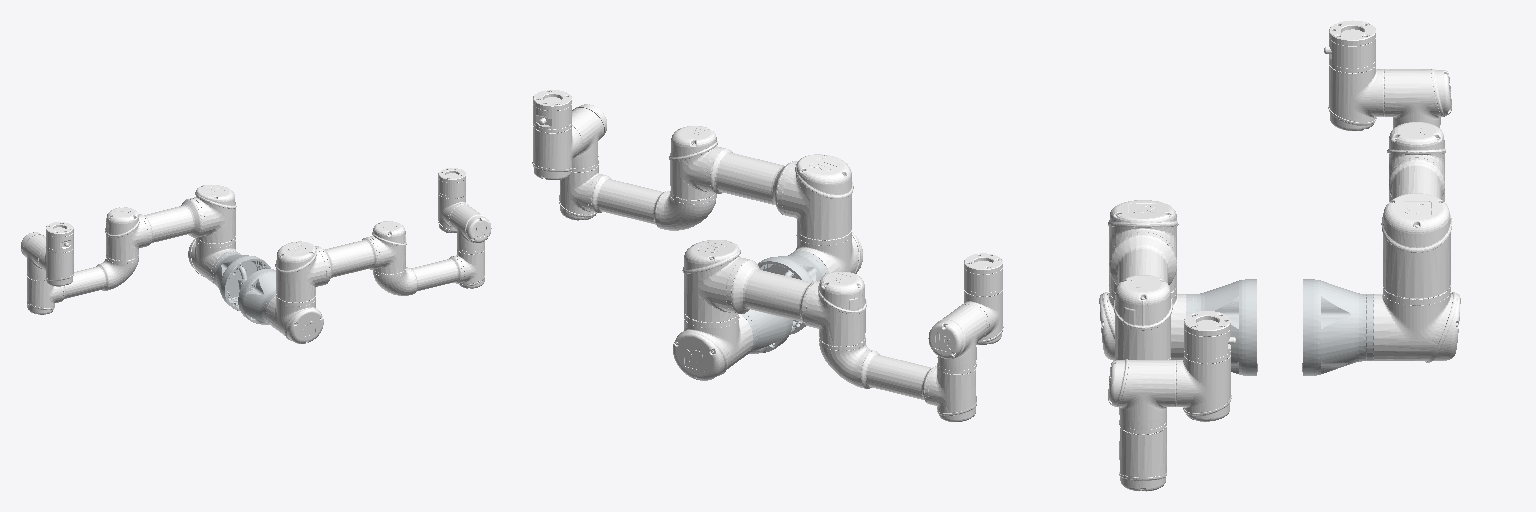
The robot description file, URDF, robot "urcar_description":
<?xml version="1.0" encoding="utf-8"?>
<!-- This URDF was automatically created by SolidWorks to URDF Exporter! Originally created by [author] ([email redacted]) 
     Commit Version: 1.6.0-1-g15f4949  Build Version: 1.6.7594.29634
     For more information, please see http://wiki.ros.org/sw_urdf_exporter -->
<robot
  name="urcar_description">
  <link
    name="base_link">
    <inertial>
      <origin
        xyz="-0.293181220823497 0.0228138862846241 0.213786065129617"
        rpy="0 0 0" />
      <mass
        value="32.9716985364073" />
      <inertia
        ixx="0.747497678624552"
        ixy="-0.000136958330347952"
        ixz="-0.00109805134374165"
        iyy="0.626023554578189"
        iyz="3.13336589739395E-05"
        izz="0.227809268803597" />
    </inertial>
    <visual>
      <origin
        xyz="0 0 0"
        rpy="0 0 0" />
      <geometry>
        <mesh
          filename="package://urcar_description/meshes/base_link.STL" />
      </geometry>
      <material
        name="">
        <color
          rgba="0.741176470588235 0.901960784313726 0.956862745098039 1" />
      </material>
    </visual>
    <collision>
      <origin
        xyz="0 0 0"
        rpy="0 0 0" />
      <geometry>
        <mesh
          filename="package://urcar_description/meshes/base_link.STL" />
      </geometry>
    </collision>
  </link>
  <link
    name="right_ur_base_link">
    <inertial>
      <origin
        xyz="-1.70585556634184E-05 0.000598349980073076 0.0583820161201244"
        rpy="0 0 0" />
      <mass
        value="1.11048857887095" />
      <inertia
        ixx="0.00156521304328468"
        ixy="2.09349645709121E-07"
        ixz="-1.23145085442165E-06"
        iyy="0.00158402822015484"
        iyz="1.40529519995404E-05"
        izz="0.0017882187974853" />
    </inertial>
    <visual>
      <origin
        xyz="0 0 0"
        rpy="0 0 0" />
      <geometry>
        <mesh
          filename="package://urcar_description/meshes/right_ur_base_link.STL" />
      </geometry>
      <material
        name="">
        <color
          rgba="0.898039215686275 0.917647058823529 0.929411764705882 1" />
      </material>
    </visual>
    <collision>
      <origin
        xyz="0 0 0"
        rpy="0 0 0" />
      <geometry>
        <mesh
          filename="package://urcar_description/meshes/right_ur_base_link.STL" />
      </geometry>
    </collision>
  </link>
  <joint
    name="right_ur_base"
    type="fixed">
    <origin
      xyz="-0.0900695574684298 -0.0295000000000024 0.127505494505501"
      rpy="-1.5707963267949 0 3.14159265358979" />
    <parent
      link="base_link" />
    <child
      link="right_ur_base_link" />
    <axis
      xyz="0 0 0" />
  </joint>
  <link
    name="right_ur_shoulder_link">
    <inertial>
      <origin
        xyz="-2.75438503311021E-07 -0.0095503335634608 -0.00134313880089604"
        rpy="0 0 0" />
      <mass
        value="0.86048677353649" />
      <inertia
        ixx="0.00145975698843663"
        ixy="1.00076031707848E-08"
        ixz="1.13510071513689E-08"
        iyy="0.00124606811007042"
        iyz="3.34902185535162E-05"
        izz="0.0011307880280091" />
    </inertial>
    <visual>
      <origin
        xyz="0 0 0"
        rpy="0 0 0" />
      <geometry>
        <mesh
          filename="package://urcar_description/meshes/right_ur_shoulder_link.STL" />
      </geometry>
      <material
        name="">
        <color
          rgba="1 1 1 1" />
      </material>
    </visual>
    <collision>
      <origin
        xyz="0 0 0"
        rpy="0 0 0" />
      <geometry>
        <mesh
          filename="package://urcar_description/meshes/right_ur_shoulder_link.STL" />
      </geometry>
    </collision>
  </link>
  <joint
    name="right_ur_shoulder_pan_joint"
    type="revolute">
    <origin
      xyz="0 0 0.15185"
      rpy="0 0 0" />
    <parent
      link="right_ur_base_link" />
    <child
      link="right_ur_shoulder_link" />
    <axis
      xyz="0 0 1" />
    <limit
      lower="-3.14"
      upper="3.14"
      effort="0"
      velocity="0" />
  </joint>
  <link
    name="right_ur_upper_arm_link">
    <inertial>
      <origin
        xyz="-0.103646398649669 1.59543779154614E-06 0.120186719515414"
        rpy="0 0 0" />
      <mass
        value="1.86255115311105" />
      <inertia
        ixx="0.00213324581133399"
        ixy="8.33210613154706E-07"
        ixz="0.00038601878673668"
        iyy="0.0202440252631196"
        iyz="-1.82478927308902E-07"
        izz="0.0196974069542396" />
    </inertial>
    <visual>
      <origin
        xyz="0 0 0"
        rpy="0 0 0" />
      <geometry>
        <mesh
          filename="package://urcar_description/meshes/right_ur_upper_arm_link.STL" />
      </geometry>
      <material
        name="">
        <color
          rgba="1 1 1 1" />
      </material>
    </visual>
    <collision>
      <origin
        xyz="0 0 0"
        rpy="0 0 0" />
      <geometry>
        <mesh
          filename="package://urcar_description/meshes/right_ur_upper_arm_link.STL" />
      </geometry>
    </collision>
  </link>
  <joint
    name="right_ur_shoulder_lift_joint"
    type="revolute">
    <origin
      xyz="0 0 0"
      rpy="1.5708 0 0" />
    <parent
      link="right_ur_shoulder_link" />
    <child
      link="right_ur_upper_arm_link" />
    <axis
      xyz="0 0 1" />
    <limit
      lower="-3.14"
      upper="3.14"
      effort="0"
      velocity="0" />
  </joint>
  <link
    name="right_ur_forearm_link">
    <inertial>
      <origin
        xyz="-0.113365957442825 3.44573695298944E-07 0.00470876633326606"
        rpy="0 0 0" />
      <mass
        value="0.888801909346324" />
      <inertia
        ixx="0.000601695226725028"
        ixy="2.34953077021263E-08"
        ixz="-0.00047433984876308"
        iyy="0.00677879949972356"
        iyz="2.32200841032818E-09"
        izz="0.00662395723523755" />
    </inertial>
    <visual>
      <origin
        xyz="0 0 0"
        rpy="0 0 0" />
      <geometry>
        <mesh
          filename="package://urcar_description/meshes/right_ur_forearm_link.STL" />
      </geometry>
      <material
        name="">
        <color
          rgba="1 1 1 1" />
      </material>
    </visual>
    <collision>
      <origin
        xyz="0 0 0"
        rpy="0 0 0" />
      <geometry>
        <mesh
          filename="package://urcar_description/meshes/right_ur_forearm_link.STL" />
      </geometry>
    </collision>
  </link>
  <joint
    name="right_ur_elbow_joint"
    type="revolute">
    <origin
      xyz="-0.24355 0 0.027"
      rpy="0 0 0" />
    <parent
      link="right_ur_upper_arm_link" />
    <child
      link="right_ur_forearm_link" />
    <axis
      xyz="0 0 1" />
    <limit
      lower="-3.14"
      upper="3.14"
      effort="0"
      velocity="0" />
  </joint>
  <link
    name="right_ur_wrist_1_link">
    <inertial>
      <origin
        xyz="1.51425311289977E-07 -3.97067190331946E-05 -0.0124956497436929"
        rpy="0 0 0" />
      <mass
        value="0.375036968075586" />
      <inertia
        ixx="0.000411752859619136"
        ixy="1.48665201195272E-09"
        ixz="-5.48241411917674E-09"
        iyy="0.000316313144134685"
        iyz="2.384364866386E-06"
        izz="0.000288187892179436" />
    </inertial>
    <visual>
      <origin
        xyz="0 0 0"
        rpy="0 0 0" />
      <geometry>
        <mesh
          filename="package://urcar_description/meshes/right_ur_wrist_1_link.STL" />
      </geometry>
      <material
        name="">
        <color
          rgba="1 1 1 1" />
      </material>
    </visual>
    <collision>
      <origin
        xyz="0 0 0"
        rpy="0 0 0" />
      <geometry>
        <mesh
          filename="package://urcar_description/meshes/right_ur_wrist_1_link.STL" />
      </geometry>
    </collision>
  </link>
  <joint
    name="right_ur_wrist_1_joint"
    type="revolute">
    <origin
      xyz="-0.2132 0 0.10405"
      rpy="0 0 0" />
    <parent
      link="right_ur_forearm_link" />
    <child
      link="right_ur_wrist_1_link" />
    <axis
      xyz="0 0 1" />
    <limit
      lower="-3.14"
      upper="3.14"
      effort="0"
      velocity="0" />
  </joint>
  <link
    name="right_ur_wrist_2_link">
    <inertial>
      <origin
        xyz="4.59401394703463E-08 3.09304237351427E-05 -0.00528976846149043"
        rpy="0 0 0" />
      <mass
        value="0.316863918999266" />
      <inertia
        ixx="0.000290365349607398"
        ixy="6.89739045564851E-11"
        ixz="5.13087527877654E-09"
        iyy="0.000194794626867655"
        iyz="-2.33431027426877E-06"
        izz="0.000259464598147467" />
    </inertial>
    <visual>
      <origin
        xyz="0 0 0"
        rpy="0 0 0" />
      <geometry>
        <mesh
          filename="package://urcar_description/meshes/right_ur_wrist_2_link.STL" />
      </geometry>
      <material
        name="">
        <color
          rgba="1 1 1 1" />
      </material>
    </visual>
    <collision>
      <origin
        xyz="0 0 0"
        rpy="0 0 0" />
      <geometry>
        <mesh
          filename="package://urcar_description/meshes/right_ur_wrist_2_link.STL" />
      </geometry>
    </collision>
  </link>
  <joint
    name="right_ur_wrist_2_joint"
    type="revolute">
    <origin
      xyz="0 -0.08535 0"
      rpy="1.5708 0 0" />
    <parent
      link="right_ur_wrist_1_link" />
    <child
      link="right_ur_wrist_2_link" />
    <axis
      xyz="0 0 1" />
    <limit
      lower="-3.14"
      upper="3.14"
      effort="0"
      velocity="0" />
  </joint>
  <link
    name="right_ur_wrist_3_link">
    <inertial>
      <origin
        xyz="-2.16463893476515E-08 0.000153725135783267 -0.0253521485792833"
        rpy="0 0 0" />
      <mass
        value="0.145961783256663" />
      <inertia
        ixx="6.30289584549884E-05"
        ixy="-2.27263392701082E-10"
        ixz="-1.04791051790363E-10"
        iyy="6.35887495748845E-05"
        iyz="-3.62022482896663E-08"
        izz="7.28000634102573E-05" />
    </inertial>
    <visual>
      <origin
        xyz="0 0 0"
        rpy="0 0 0" />
      <geometry>
        <mesh
          filename="package://urcar_description/meshes/right_ur_wrist_3_link.STL" />
      </geometry>
      <material
        name="">
        <color
          rgba="1 1 1 1" />
      </material>
    </visual>
    <collision>
      <origin
        xyz="0 0 0"
        rpy="0 0 0" />
      <geometry>
        <mesh
          filename="package://urcar_description/meshes/right_ur_wrist_3_link.STL" />
      </geometry>
    </collision>
  </link>
  <joint
    name="right_ur_wrist_3_joint"
    type="revolute">
    <origin
      xyz="0 0.0921 0"
      rpy="-1.5708 0 0" />
    <parent
      link="right_ur_wrist_2_link" />
    <child
      link="right_ur_wrist_3_link" />
    <axis
      xyz="0 0 1" />
    <limit
      lower="-3.14"
      upper="3.14"
      effort="0"
      velocity="0" />
  </joint>
  <link
    name="left_ur_base_link">
    <inertial>
      <origin
        xyz="-1.70585560592962E-05 0.000598349978268964 0.0583820161197486"
        rpy="0 0 0" />
      <mass
        value="1.11048857899584" />
      <inertia
        ixx="0.00156521304331817"
        ixy="2.09349636447583E-07"
        ixz="-1.23145085784408E-06"
        iyy="0.00158402822015454"
        iyz="1.40529519917085E-05"
        izz="0.00178821879751267" />
    </inertial>
    <visual>
      <origin
        xyz="0 0 0"
        rpy="0 0 0" />
      <geometry>
        <mesh
          filename="package://urcar_description/meshes/left_ur_base_link.STL" />
      </geometry>
      <material
        name="">
        <color
          rgba="0.898039215686275 0.917647058823529 0.929411764705882 1" />
      </material>
    </visual>
    <collision>
      <origin
        xyz="0 0 0"
        rpy="0 0 0" />
      <geometry>
        <mesh
          filename="package://urcar_description/meshes/left_ur_base_link.STL" />
      </geometry>
    </collision>
  </link>
  <joint
    name="left_ur_base"
    type="fixed">
    <origin
      xyz="-0.09007 0.0305 0.12751"
      rpy="-1.5708 0 0" />
    <parent
      link="base_link" />
    <child
      link="left_ur_base_link" />
    <axis
      xyz="0 0 0" />
  </joint>
  <link
    name="left_ur_shoulder_link">
    <inertial>
      <origin
        xyz="-9.67599977086397E-08 -0.00955031302882908 -0.00134307624352892"
        rpy="0 0 0" />
      <mass
        value="0.860481773538634" />
      <inertia
        ixx="0.00145975703636161"
        ixy="1.00342656563931E-08"
        ixz="1.13363669644073E-08"
        iyy="0.00124606797307752"
        iyz="3.34902394955827E-05"
        izz="0.00113078792734696" />
    </inertial>
    <visual>
      <origin
        xyz="0 0 0"
        rpy="0 0 0" />
      <geometry>
        <mesh
          filename="package://urcar_description/meshes/left_ur_shoulder_link.STL" />
      </geometry>
      <material
        name="">
        <color
          rgba="1 1 1 1" />
      </material>
    </visual>
    <collision>
      <origin
        xyz="0 0 0"
        rpy="0 0 0" />
      <geometry>
        <mesh
          filename="package://urcar_description/meshes/left_ur_shoulder_link.STL" />
      </geometry>
    </collision>
  </link>
  <joint
    name="left_ur_shoulder_pan_joint"
    type="revolute">
    <origin
      xyz="0 0 0.15185"
      rpy="0 0 0" />
    <parent
      link="left_ur_base_link" />
    <child
      link="left_ur_shoulder_link" />
    <axis
      xyz="0 0 1" />
    <limit
      lower="-3.14"
      upper="3.14"
      effort="0"
      velocity="0" />
  </joint>
  <link
    name="left_ur_upper_arm_link">
    <inertial>
      <origin
        xyz="-0.103646361909403 1.57794692867697E-06 0.120186715762299"
        rpy="0 0 0" />
      <mass
        value="1.86255217904093" />
      <inertia
        ixx="0.00213324549329523"
        ixy="8.3296461192486E-07"
        ixz="0.000386018430757662"
        iyy="0.0202440239369208"
        iyz="-1.82464647232383E-07"
        izz="0.019697405360556" />
    </inertial>
    <visual>
      <origin
        xyz="0 0 0"
        rpy="0 0 0" />
      <geometry>
        <mesh
          filename="package://urcar_description/meshes/left_ur_upper_arm_link.STL" />
      </geometry>
      <material
        name="">
        <color
          rgba="1 1 1 1" />
      </material>
    </visual>
    <collision>
      <origin
        xyz="0 0 0"
        rpy="0 0 0" />
      <geometry>
        <mesh
          filename="package://urcar_description/meshes/left_ur_upper_arm_link.STL" />
      </geometry>
    </collision>
  </link>
  <joint
    name="left_ur_shoulder_lift_joint"
    type="revolute">
    <origin
      xyz="0 0 0"
      rpy="1.5708 0 0" />
    <parent
      link="left_ur_shoulder_link" />
    <child
      link="left_ur_upper_arm_link" />
    <axis
      xyz="0 0 1" />
    <limit
      lower="-3.14"
      upper="3.14"
      effort="0"
      velocity="0" />
  </joint>
  <link
    name="left_ur_forearm_link">
    <inertial>
      <origin
        xyz="-0.113365959382854 3.44232148341561E-07 0.0047087655741031"
        rpy="0 0 0" />
      <mass
        value="0.888801942898712" />
      <inertia
        ixx="0.000601695179250581"
        ixy="2.34046232809796E-08"
        ixz="-0.00047433985025688"
        iyy="0.00677879951041521"
        iyz="2.29736419364682E-09"
        izz="0.0066239572943536" />
    </inertial>
    <visual>
      <origin
        xyz="0 0 0"
        rpy="0 0 0" />
      <geometry>
        <mesh
          filename="package://urcar_description/meshes/left_ur_forearm_link.STL" />
      </geometry>
      <material
        name="">
        <color
          rgba="1 1 1 1" />
      </material>
    </visual>
    <collision>
      <origin
        xyz="0 0 0"
        rpy="0 0 0" />
      <geometry>
        <mesh
          filename="package://urcar_description/meshes/left_ur_forearm_link.STL" />
      </geometry>
    </collision>
  </link>
  <joint
    name="left_ur_elbow_joint"
    type="revolute">
    <origin
      xyz="-0.24355 0 0.027"
      rpy="0 0 0" />
    <parent
      link="left_ur_upper_arm_link" />
    <child
      link="left_ur_forearm_link" />
    <axis
      xyz="0 0 1" />
    <limit
      lower="-3.14"
      upper="3.14"
      effort="0"
      velocity="0" />
  </joint>
  <link
    name="left_ur_wrist_1_link">
    <inertial>
      <origin
        xyz="1.51219308242023E-07 -3.97060497587809E-05 -0.012495648667315"
        rpy="0 0 0" />
      <mass
        value="0.375036952925017" />
      <inertia
        ixx="0.000411752842139784"
        ixy="1.48469142584213E-09"
        ixz="-5.48361636303738E-09"
        iyy="0.000316313128446611"
        iyz="2.38437183463293E-06"
        izz="0.000288187883829113" />
    </inertial>
    <visual>
      <origin
        xyz="0 0 0"
        rpy="0 0 0" />
      <geometry>
        <mesh
          filename="package://urcar_description/meshes/left_ur_wrist_1_link.STL" />
      </geometry>
      <material
        name="">
        <color
          rgba="1 1 1 1" />
      </material>
    </visual>
    <collision>
      <origin
        xyz="0 0 0"
        rpy="0 0 0" />
      <geometry>
        <mesh
          filename="package://urcar_description/meshes/left_ur_wrist_1_link.STL" />
      </geometry>
    </collision>
  </link>
  <joint
    name="left_ur_wrist_1_joint"
    type="revolute">
    <origin
      xyz="-0.2132 0 0.10405"
      rpy="0 0 0" />
    <parent
      link="left_ur_forearm_link" />
    <child
      link="left_ur_wrist_1_link" />
    <axis
      xyz="0 0 1" />
    <limit
      lower="-3.14"
      upper="3.14"
      effort="0"
      velocity="0" />
  </joint>
  <link
    name="left_ur_wrist_2_link">
    <inertial>
      <origin
        xyz="6.10124055167027E-08 3.09384468485385E-05 -0.0052897738204587"
        rpy="0 0 0" />
      <mass
        value="0.316864132517896" />
      <inertia
        ixx="0.000290365363147334"
        ixy="1.42976604993195E-10"
        ixz="5.17000987218734E-09"
        iyy="0.00019479476406711"
        iyz="-2.33427646368357E-06"
        izz="0.000259464723052012" />
    </inertial>
    <visual>
      <origin
        xyz="0 0 0"
        rpy="0 0 0" />
      <geometry>
        <mesh
          filename="package://urcar_description/meshes/left_ur_wrist_2_link.STL" />
      </geometry>
      <material
        name="">
        <color
          rgba="1 1 1 1" />
      </material>
    </visual>
    <collision>
      <origin
        xyz="0 0 0"
        rpy="0 0 0" />
      <geometry>
        <mesh
          filename="package://urcar_description/meshes/left_ur_wrist_2_link.STL" />
      </geometry>
    </collision>
  </link>
  <joint
    name="left_ur_wrist_2_joint"
    type="revolute">
    <origin
      xyz="0 -0.08535 0"
      rpy="1.5708 0 0" />
    <parent
      link="left_ur_wrist_1_link" />
    <child
      link="left_ur_wrist_2_link" />
    <axis
      xyz="0 0 1" />
    <limit
      lower="-3.14"
      upper="3.14"
      effort="0"
      velocity="0" />
  </joint>
  <link
    name="left_ur_wrist_3_link">
    <inertial>
      <origin
        xyz="-2.16463894031627E-08 0.000153725135783267 -0.0253521485792833"
        rpy="0 0 0" />
      <mass
        value="0.145961783256662" />
      <inertia
        ixx="6.30289584549874E-05"
        ixy="-2.27263392707742E-10"
        ixz="-1.04791051677919E-10"
        iyy="6.35887495748838E-05"
        iyz="-3.62022482900433E-08"
        izz="7.28000634102562E-05" />
    </inertial>
    <visual>
      <origin
        xyz="0 0 0"
        rpy="0 0 0" />
      <geometry>
        <mesh
          filename="package://urcar_description/meshes/left_ur_wrist_3_link.STL" />
      </geometry>
      <material
        name="">
        <color
          rgba="1 1 1 1" />
      </material>
    </visual>
    <collision>
      <origin
        xyz="0 0 0"
        rpy="0 0 0" />
      <geometry>
        <mesh
          filename="package://urcar_description/meshes/left_ur_wrist_3_link.STL" />
      </geometry>
    </collision>
  </link>
  <joint
    name="left_ur_wrist_3_joint"
    type="revolute">
    <origin
      xyz="0 0.0921 0"
      rpy="-1.5708 0 0" />
    <parent
      link="left_ur_wrist_2_link" />
    <child
      link="left_ur_wrist_3_link" />
    <axis
      xyz="0 0 1" />
    <limit
      lower="-3.14"
      upper="3.14"
      effort="0"
      velocity="0" />
  </joint>
</robot>

--- What the picture shows (computed from the rendered views, not written in the file) ---
The picture shows the robot from 3 angles, left to right: view 1: azimuth 30°, elevation 25°; view 2: azimuth 150°, elevation 25°; view 3: azimuth 270°, elevation 25°; orthographic projection.
Model urcar_description with 15 links and 14 joints (12 revolute, 2 fixed), rooted at base_link, posed all joints at 0.
Visible links, largest first — view 1: right_ur_upper_arm_link, left_ur_upper_arm_link, right_ur_forearm_link, left_ur_forearm_link, right_ur_shoulder_link, left_ur_base_link, right_ur_base_link, right_ur_wrist_1_link, left_ur_shoulder_link, left_ur_wrist_2_link, left_ur_wrist_1_link, right_ur_wrist_3_link (+2 smaller); view 2: right_ur_upper_arm_link, left_ur_upper_arm_link, left_ur_forearm_link, right_ur_forearm_link, left_ur_shoulder_link, left_ur_wrist_1_link, right_ur_wrist_2_link, right_ur_shoulder_link, right_ur_wrist_1_link, left_ur_wrist_3_link, right_ur_wrist_3_link, right_ur_base_link (+2 smaller); view 3: left_ur_upper_arm_link, right_ur_upper_arm_link, left_ur_base_link, left_ur_shoulder_link, right_ur_wrist_1_link, left_ur_wrist_1_link, right_ur_base_link, left_ur_wrist_2_link, right_ur_wrist_2_link, right_ur_forearm_link, right_ur_wrist_3_link, left_ur_wrist_3_link (+1 smaller).
Link boxes in pixels (left/top/right/bottom): right_ur_upper_arm_link: left=275, top=221, right=406, bottom=302; left_ur_upper_arm_link: left=105, top=185, right=236, bottom=260; right_ur_forearm_link: left=373, top=250, right=484, bottom=295; left_ur_forearm_link: left=27, top=256, right=138, bottom=314; right_ur_shoulder_link: left=266, top=295, right=323, bottom=343; left_ur_base_link: left=211, top=251, right=270, bottom=310; right_ur_base_link: left=238, top=269, right=275, bottom=324; right_ur_wrist_1_link: left=450, top=204, right=491, bottom=254; left_ur_shoulder_link: left=188, top=236, right=236, bottom=283; left_ur_wrist_2_link: left=38, top=248, right=73, bottom=286; left_ur_wrist_1_link: left=21, top=232, right=45, bottom=280; right_ur_wrist_3_link: left=438, top=168, right=465, bottom=198; right_ur_upper_arm_link: left=669, top=126, right=853, bottom=239; left_ur_upper_arm_link: left=682, top=240, right=866, bottom=346; left_ur_forearm_link: left=819, top=338, right=976, bottom=421; right_ur_forearm_link: left=559, top=165, right=716, bottom=230; left_ur_shoulder_link: left=673, top=314, right=752, bottom=380; left_ur_wrist_1_link: left=928, top=305, right=986, bottom=374; right_ur_wrist_2_link: left=532, top=126, right=581, bottom=179; right_ur_shoulder_link: left=794, top=231, right=862, bottom=273; right_ur_wrist_1_link: left=571, top=104, right=606, bottom=172; left_ur_wrist_3_link: left=964, top=253, right=1002, bottom=296; right_ur_wrist_3_link: left=533, top=90, right=571, bottom=132; right_ur_base_link: left=758, top=251, right=828, bottom=334; left_ur_upper_arm_link: left=1381, top=122, right=1451, bottom=298; right_ur_upper_arm_link: left=1108, top=200, right=1178, bottom=359; left_ur_base_link: left=1302, top=279, right=1373, bottom=375; left_ur_shoulder_link: left=1374, top=286, right=1460, bottom=362; right_ur_wrist_1_link: left=1108, top=359, right=1175, bottom=434; left_ur_wrist_1_link: left=1384, top=69, right=1451, bottom=128; right_ur_base_link: left=1186, top=279, right=1257, bottom=375; left_ur_wrist_2_link: left=1328, top=65, right=1383, bottom=130; right_ur_wrist_2_link: left=1176, top=356, right=1231, bottom=421; right_ur_forearm_link: left=1115, top=357, right=1170, bottom=491; right_ur_wrist_3_link: left=1184, top=311, right=1235, bottom=363; left_ur_wrist_3_link: left=1324, top=20, right=1375, bottom=73.
Size in the robot's own frame: 0.9781 by 0.4801 by 0.2874 metres.
Meshes: 15 distinct files referenced, 14 mesh visuals loaded (14 binary STL); not drawn: 1 (reference not matched to a file when rendering).